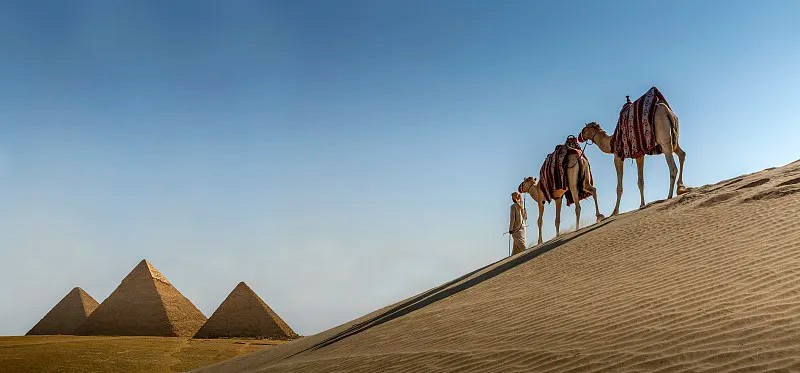Pyramid: (76, 259, 207, 339), (192, 282, 302, 341), (25, 287, 101, 336)
